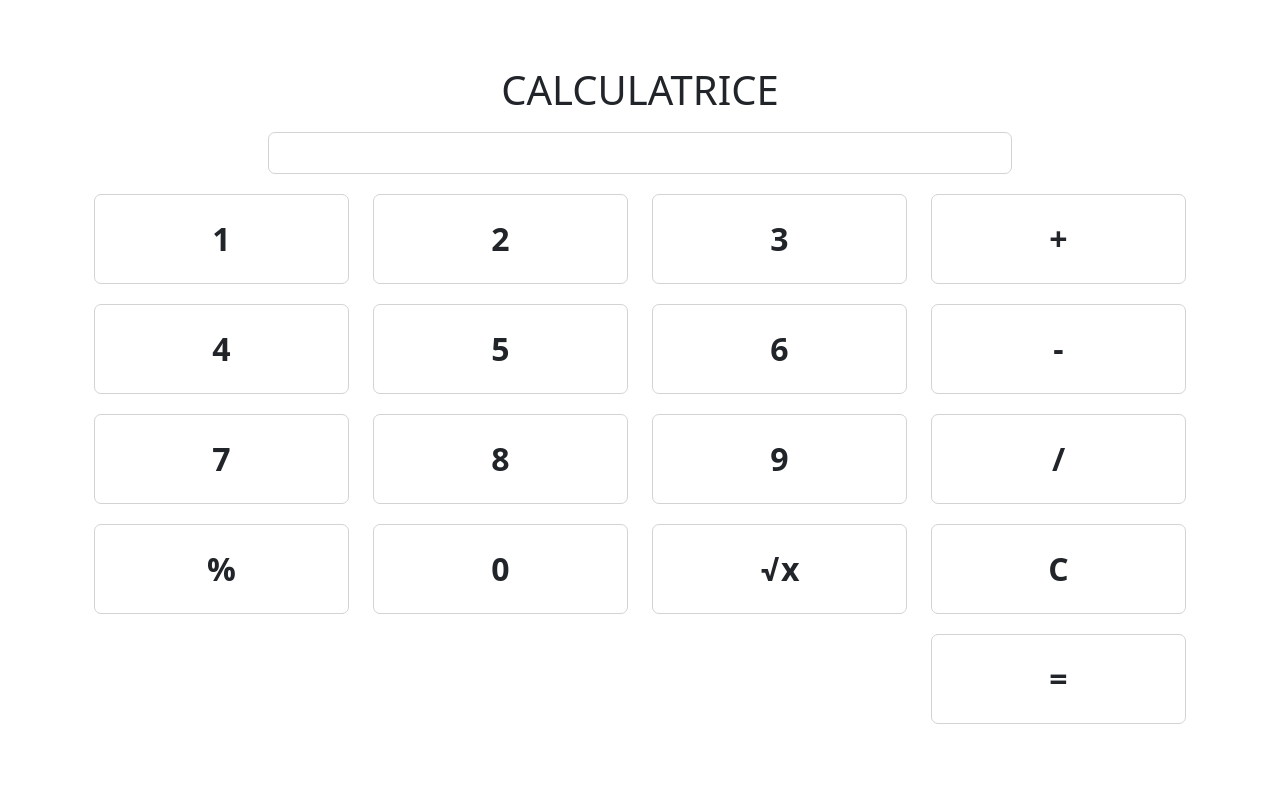
Scenario: test soustraction fonctional
(page scrolled)
Step 1. Click the text with class "touch" showing "9" → (780, 459), box [652,414,907,504]
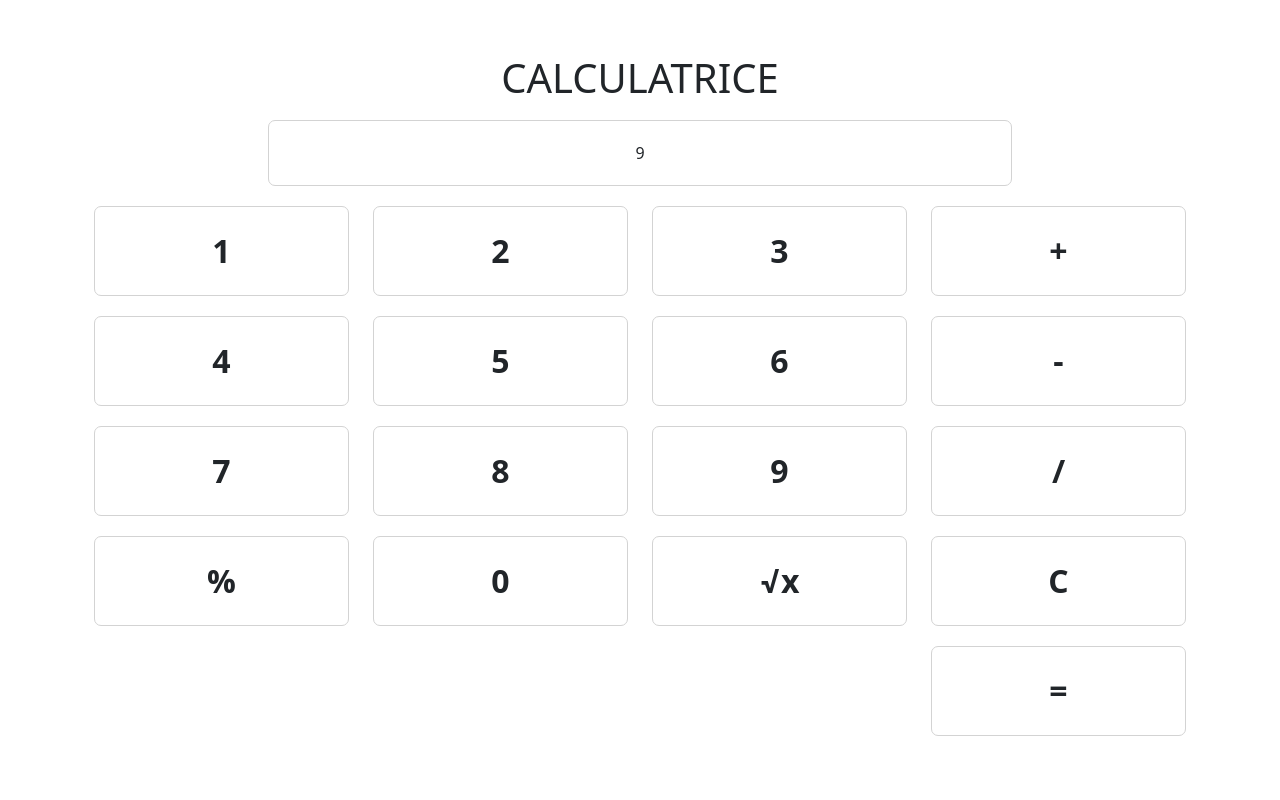
Step 2. Click the text with class "touch" showing "√x" → (780, 581), box [652,536,907,626]
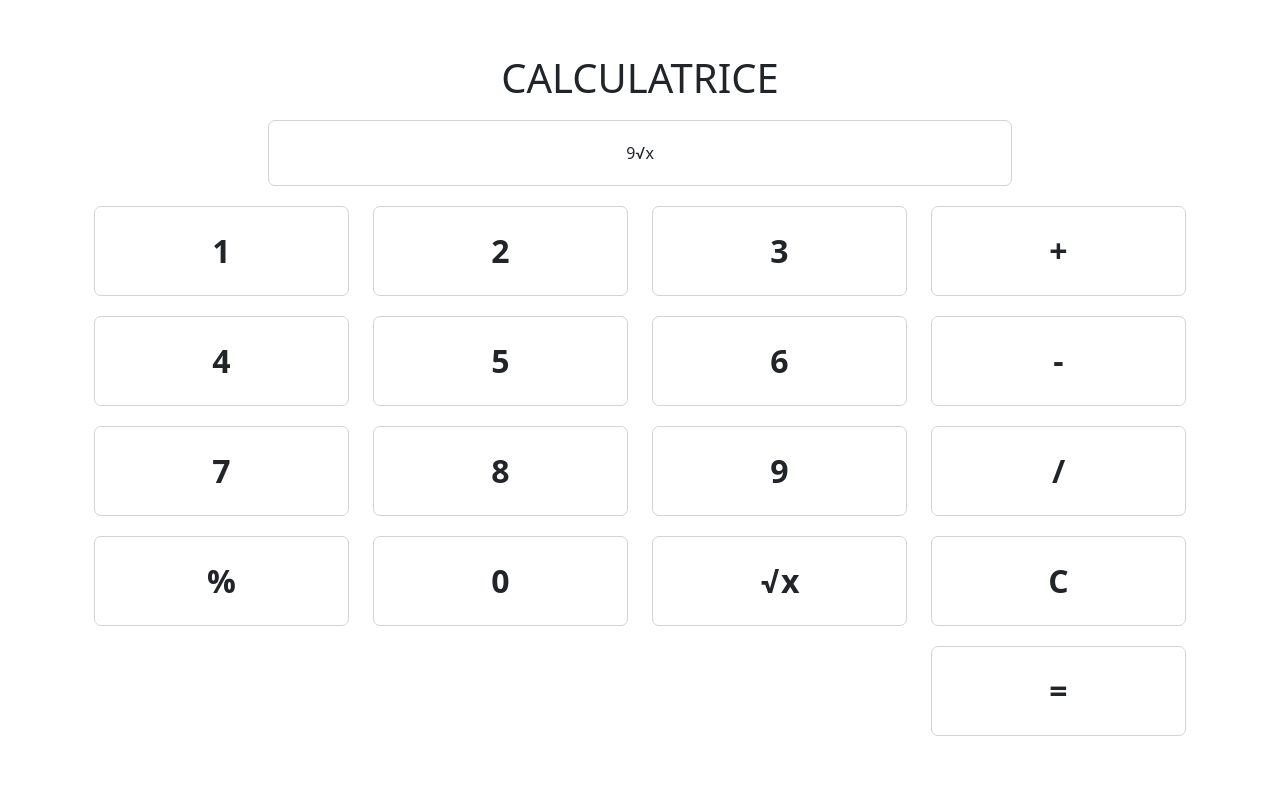
Step 3. Click the text with class "touch" showing "9" → (780, 471), box [652,426,907,516]
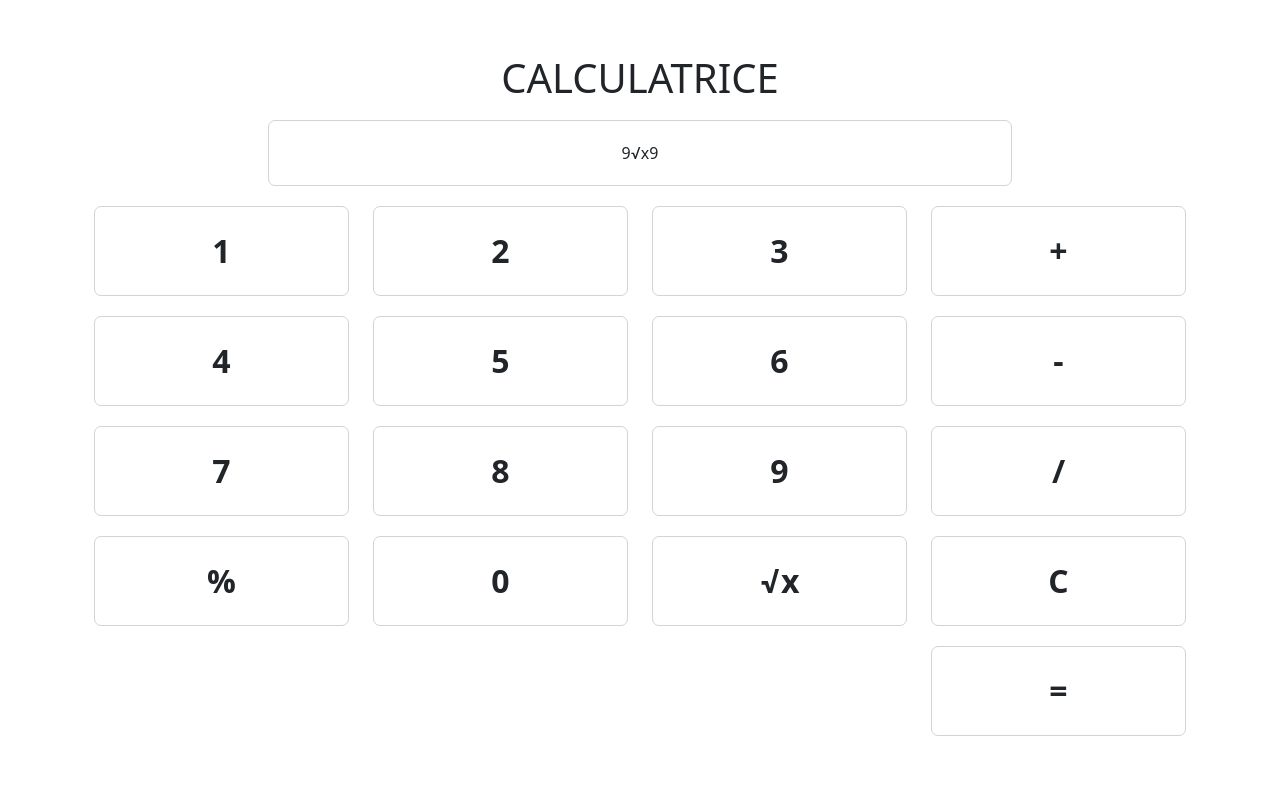
Step 4. Click the text with class "touch" showing "=" → (1058, 691), box [931,646,1186,736]
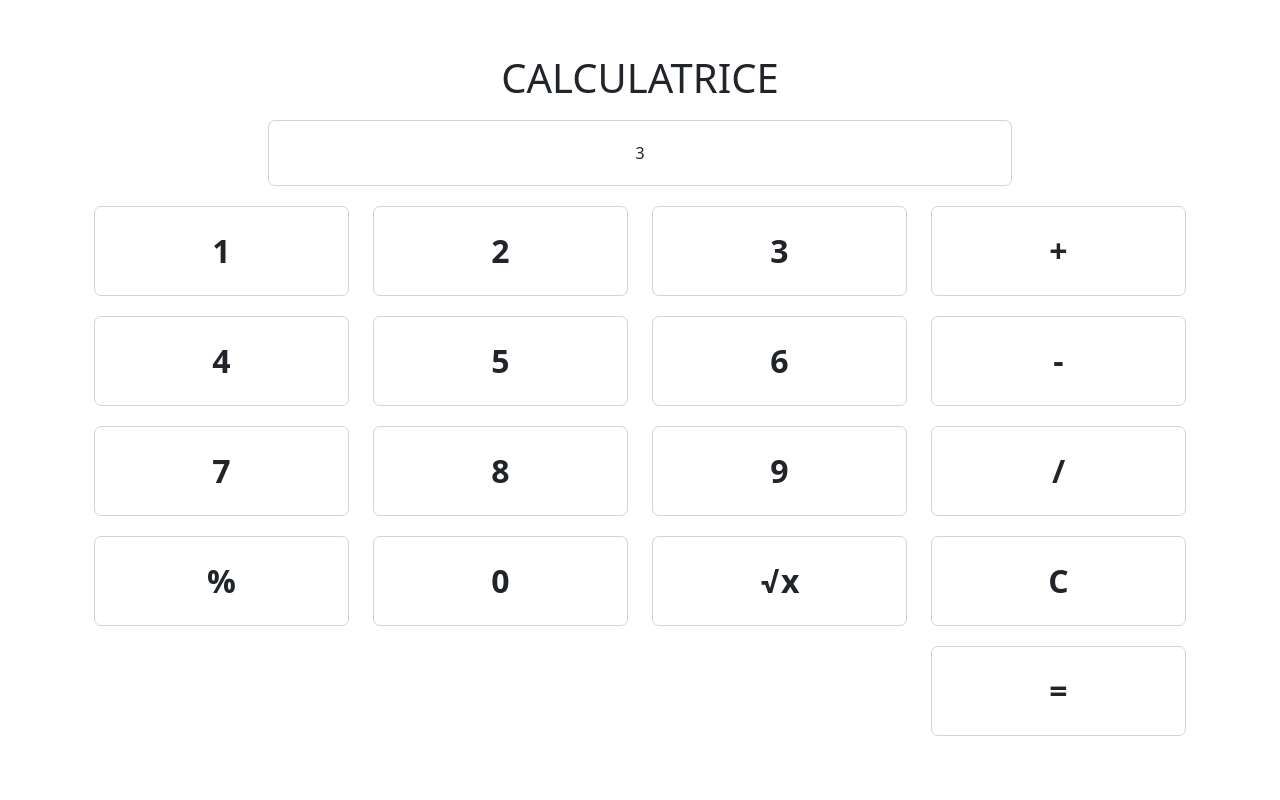
Expected: the text with class "result" reads "3", [635,142,645,164]
